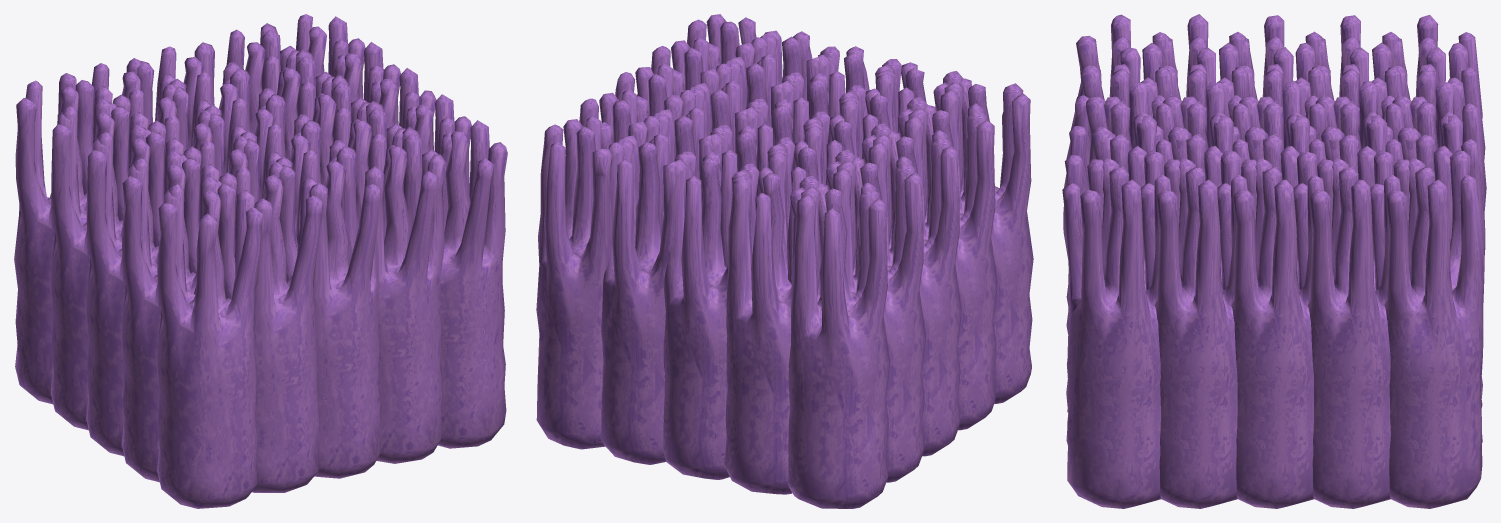
File: Baked_EpithelialCellStacked.fbx
3 renders of one model, left to right at view 1: azimuth 30°, elevation 25°; view 2: azimuth 150°, elevation 25°; view 3: azimuth 270°, elevation 25°, orthographic. The views are drawn at different scales.
Parts seen in each view (by area): view 1: Cube; view 2: Cube; view 3: Cube.
Part boxes in pixels (x1,y1,x2,y2): Cube: [14, 14, 507, 508]; Cube: [536, 14, 1033, 508]; Cube: [1062, 14, 1486, 508].
Bounding box in the file's own units: 696 × 603 × 695.
1 material, 1 textured.
